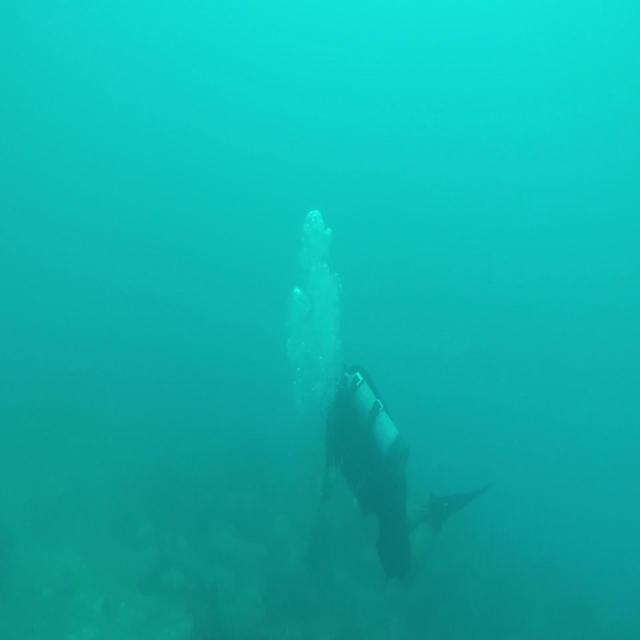human: (319, 360, 492, 584)
